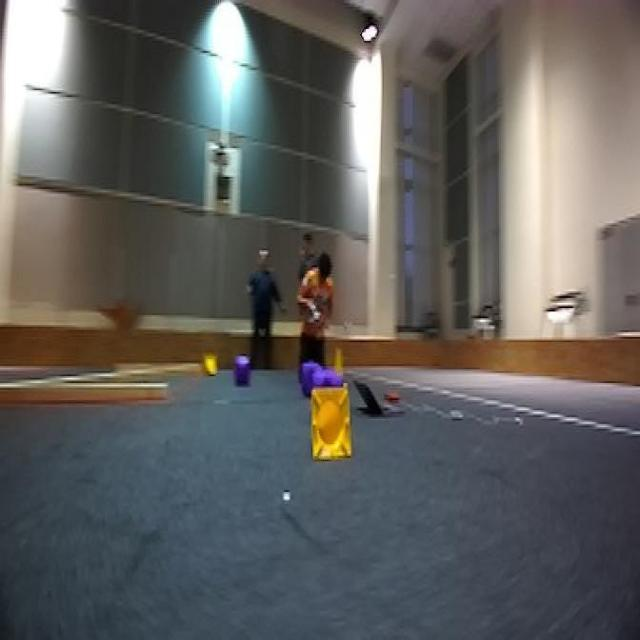frc_cone: (307, 383, 358, 468), (330, 347, 350, 388), (203, 349, 222, 378)
frc_cube: (311, 375, 354, 393), (235, 354, 252, 386), (300, 361, 314, 393)
